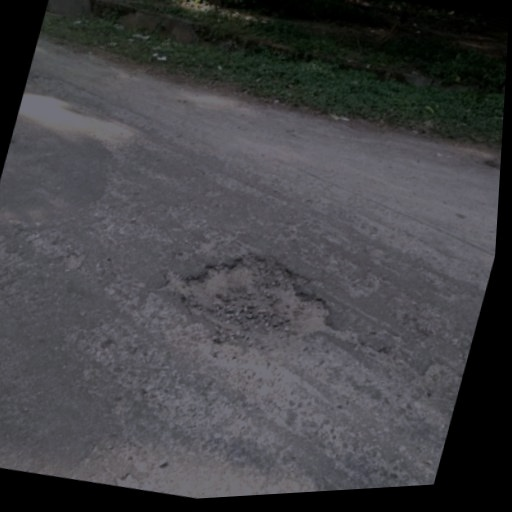pothole: (141, 226, 360, 371)
